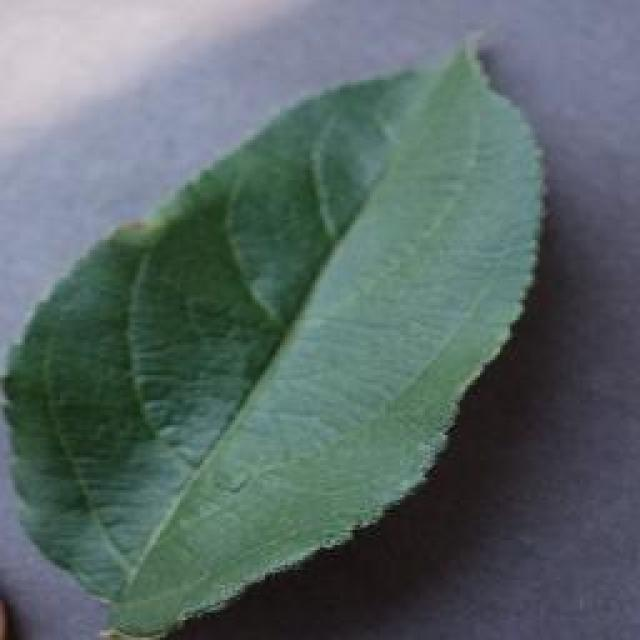Apple___healthy: (0, 32, 551, 638)
